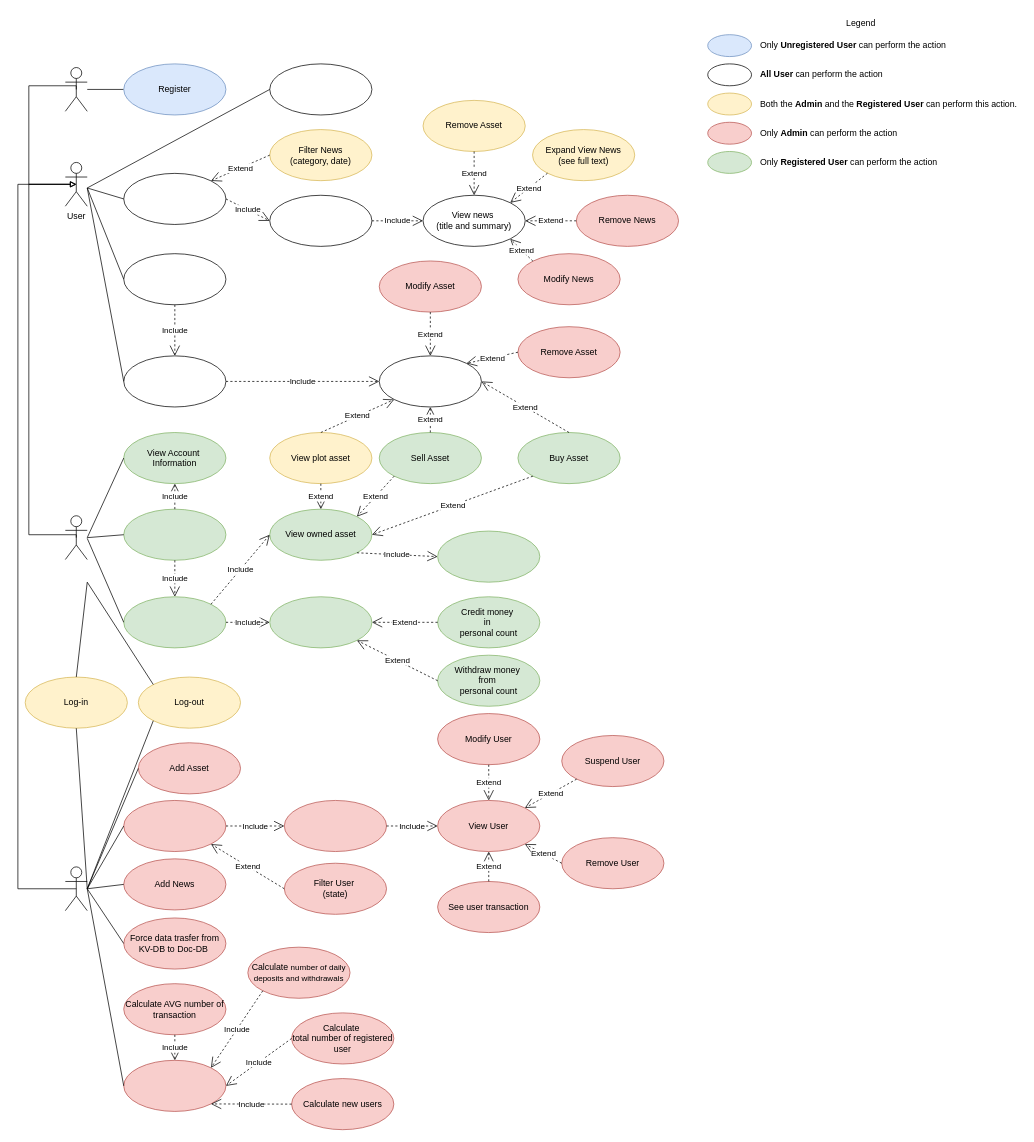
The diagram is 1034 pixels wide and 1142 high, and some of its shapes have lost their labels. The centre of each missing label's shape, as x and y in pixels:
Admin: point 76,888
Browse assets: point 174,279
Browse News: point 174,198
Browse Users: point 174,826
Calculate Analytics: point 174,1085
Find asset: point 174,381
Find news: point 320,220
Find User: point 335,826
Registered User: point 76,537
Unregistered User: point 76,89
View asset: point 430,381
View Basic Information about the Platform: point 320,89
View Count: point 320,622
View personal page: point 174,534
View Personal Wallet: point 174,622
View quantity, name, AVC, current price, gain or loss: point 488,556
